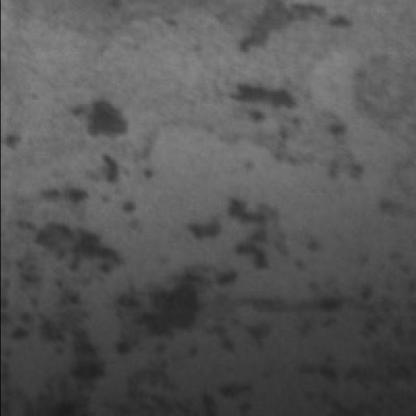inclusion: (67, 92, 129, 137)
patches: (231, 0, 327, 54)
pitted_surface: (27, 131, 399, 414)
